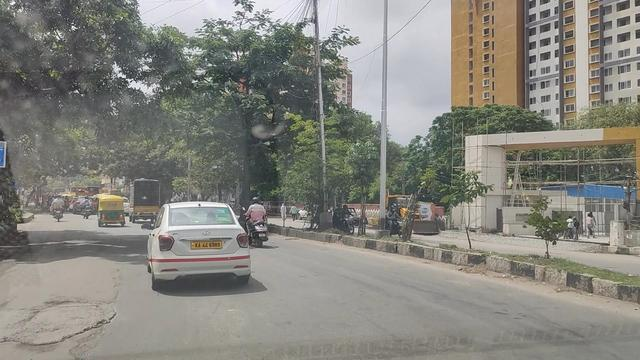LMV: (153, 202, 254, 296), (243, 195, 271, 248)
RoadDamages: (8, 298, 113, 356)
